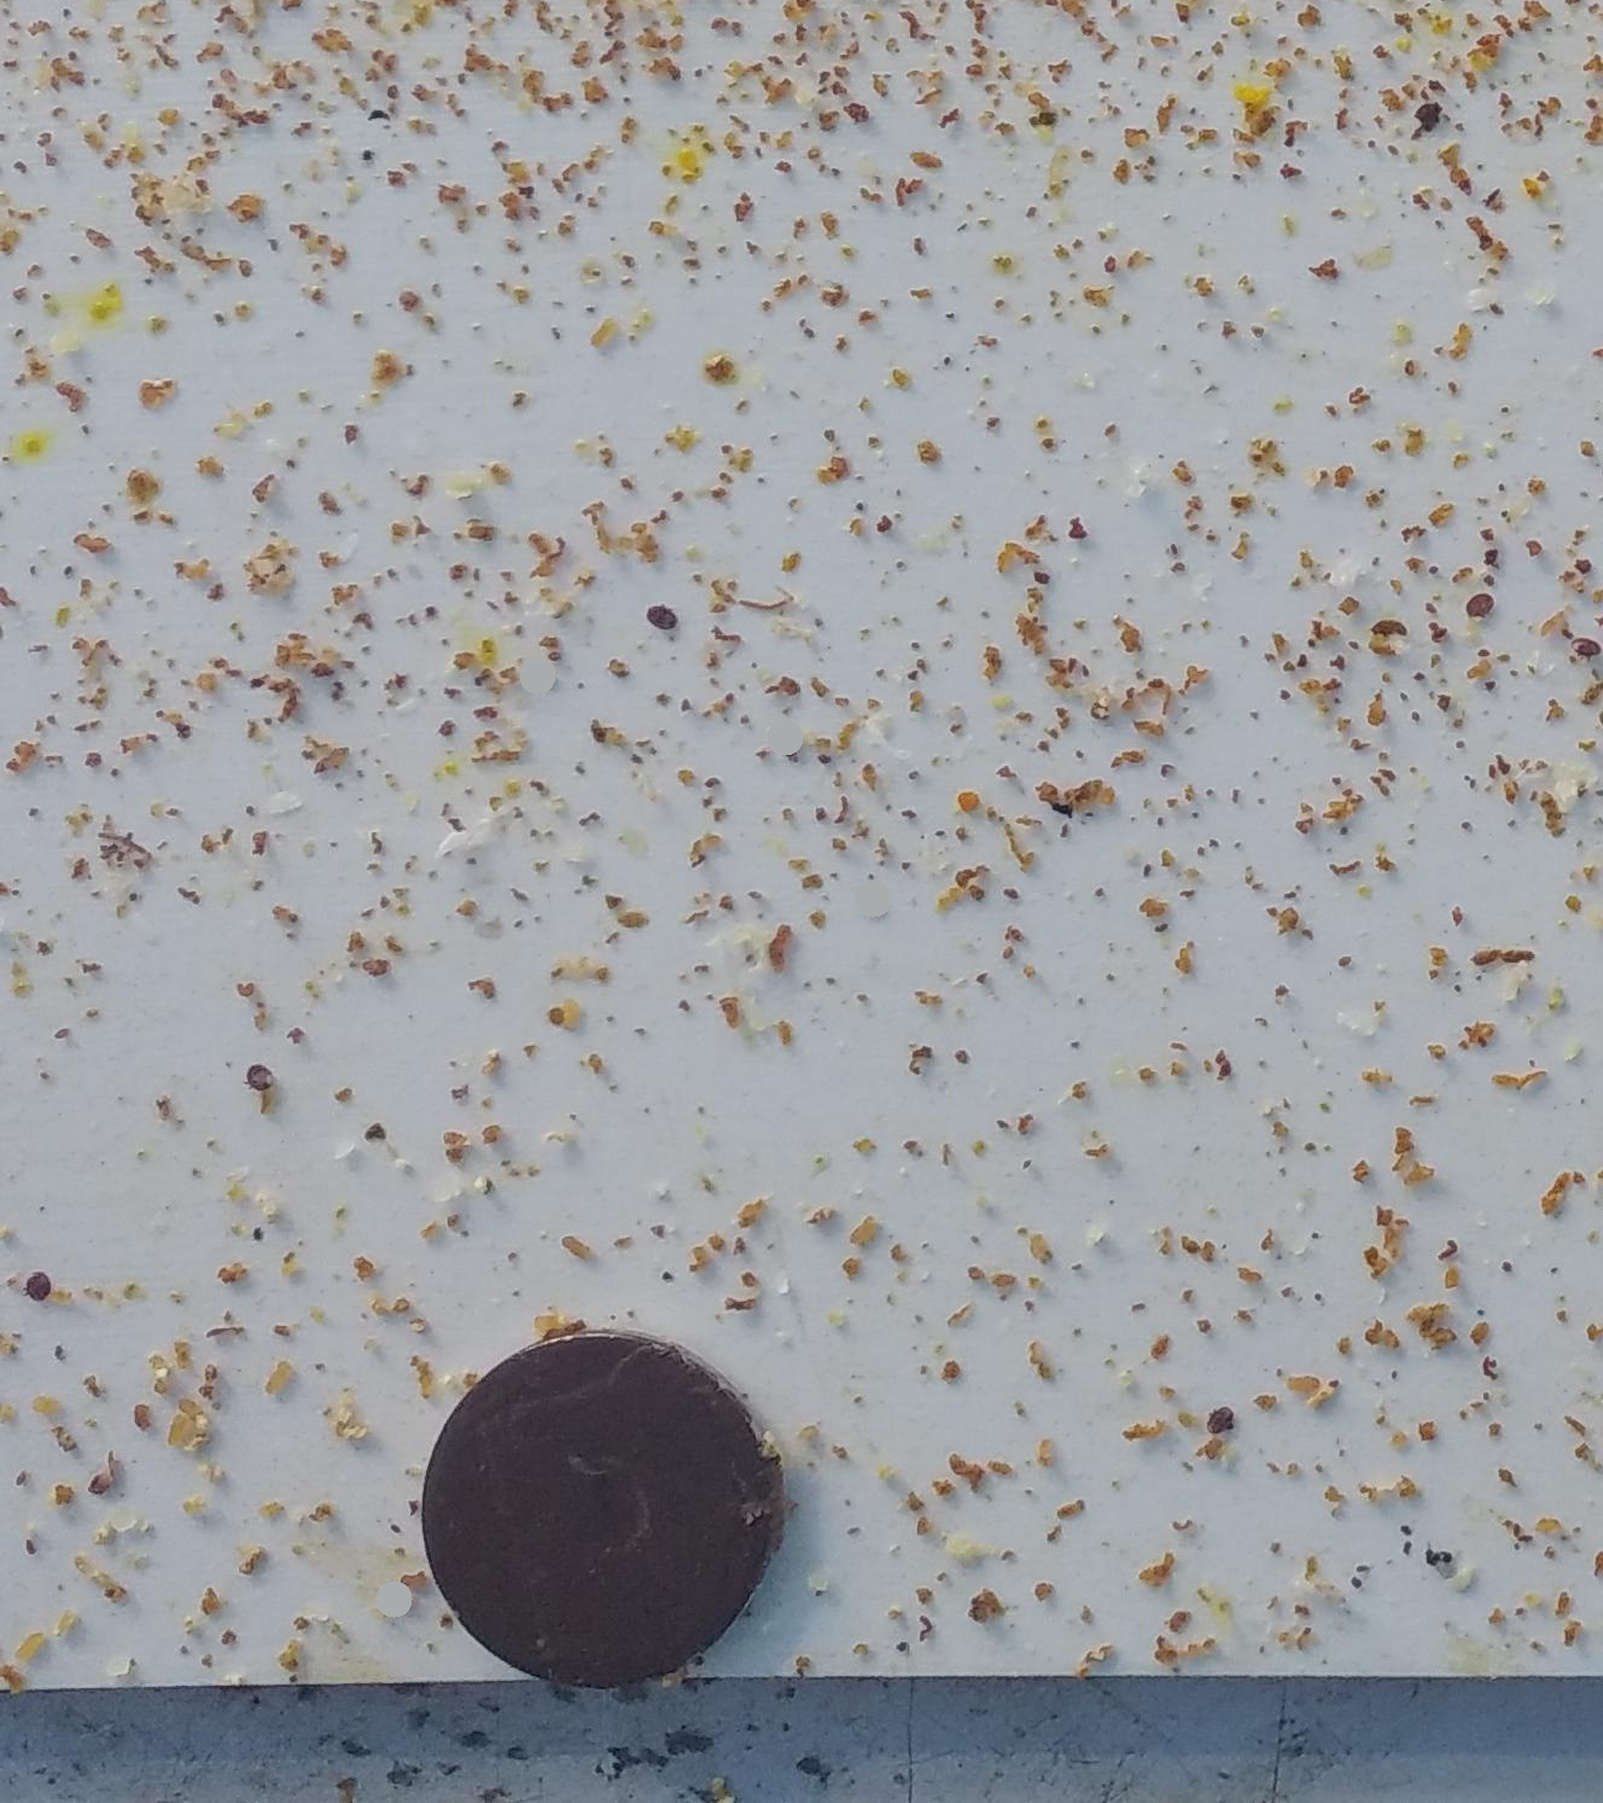Varroa: (1572, 631, 1601, 662), (25, 1271, 53, 1300), (244, 1059, 274, 1086), (1205, 1407, 1235, 1435), (653, 599, 673, 627), (1471, 596, 1495, 618)
